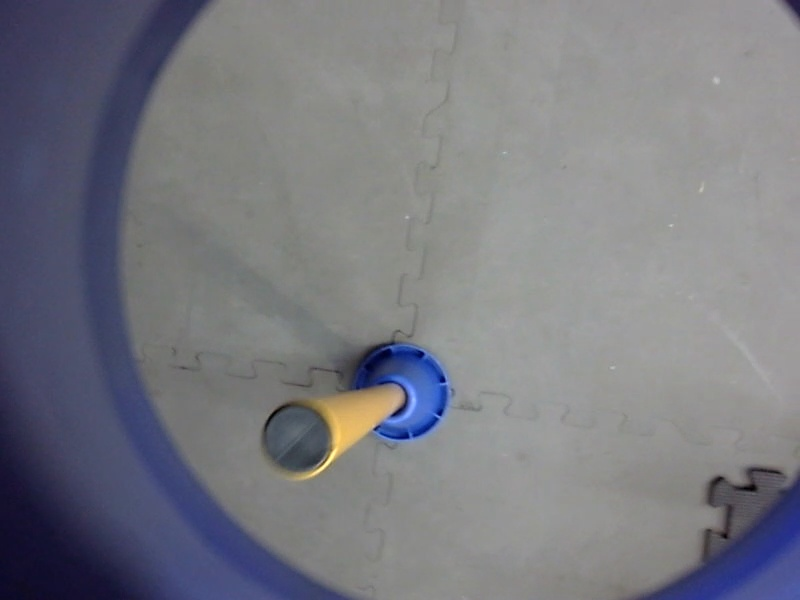tip: (248, 395, 343, 486)
